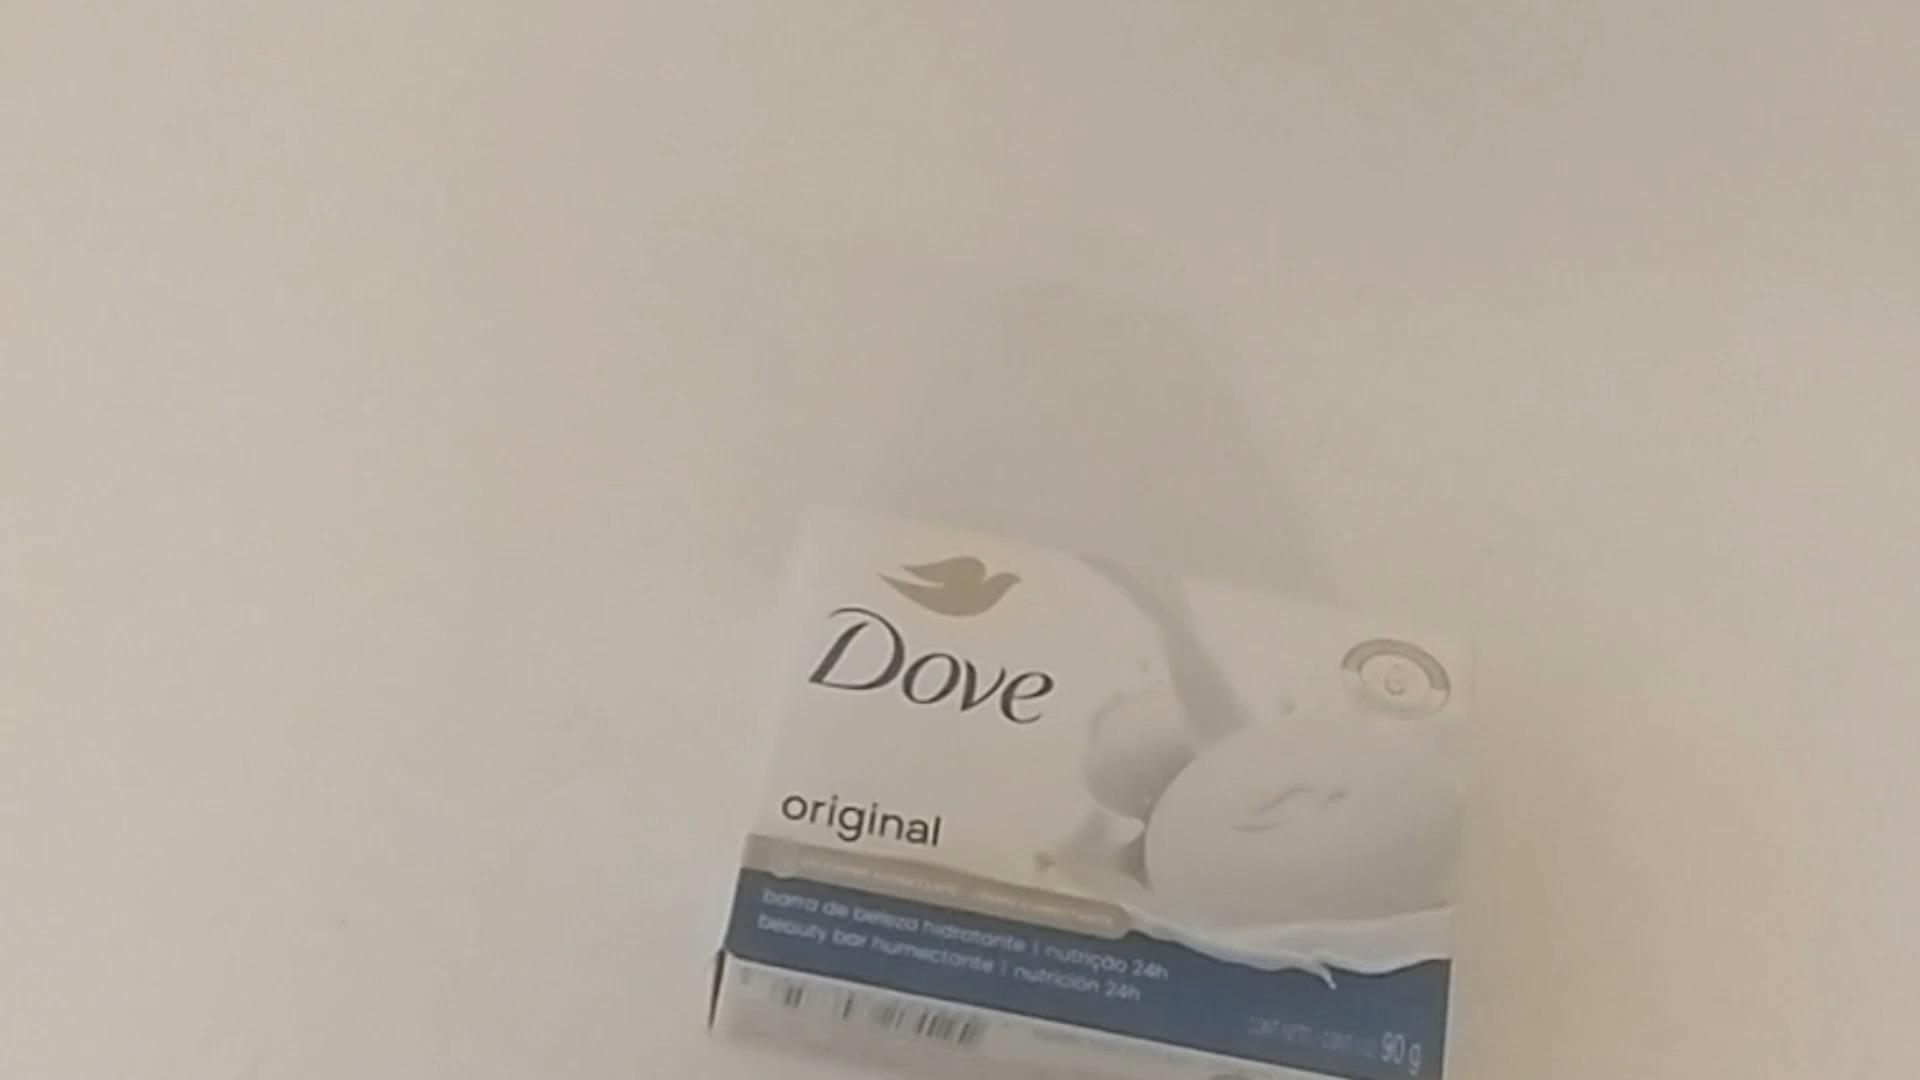soap: (708, 510, 1464, 1073)
